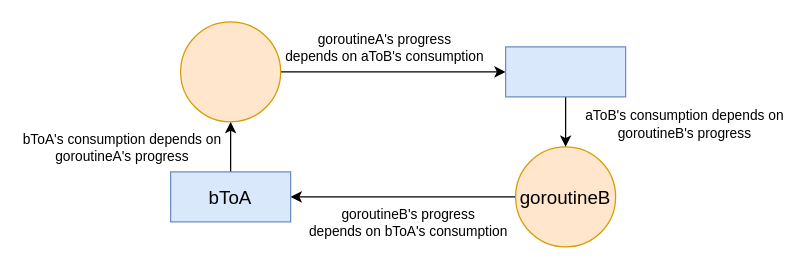
This 804x269 diagram has some shape labels left out. Here are the shapes that lost their labels. From the top down, the centre of each, then its label:
(230,71): goroutineA
(565,71): aToB
